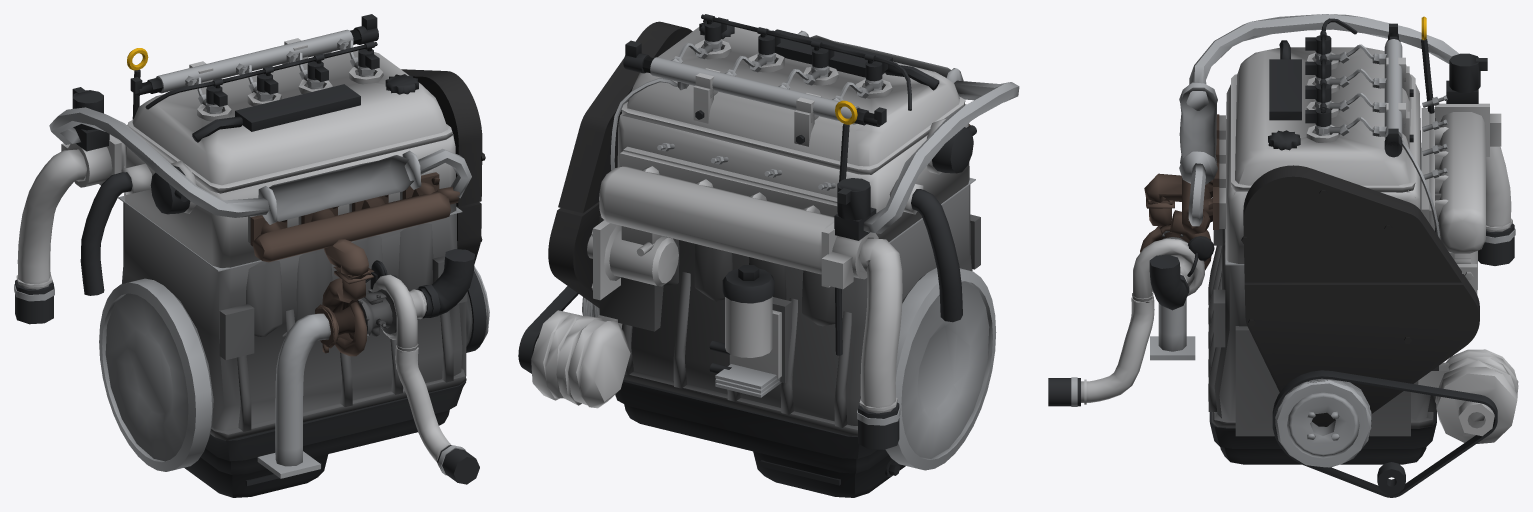
Rendered from engine_diesel-lo-v1.glb.
3 views of the same model, side by side, from view 1: azimuth 30°, elevation 25°; view 2: azimuth 150°, elevation 25°; view 3: azimuth 270°, elevation 25° (orthographic). The views are drawn at different scales.
Parts seen in each view (by area): view 1: block_geo, valve_cover_geo, flywheel_geo, egr_cooler_geo, oil_pan_geo, exhaust_manifold_geo, head_geo, intercooler_pipe_in_geo, downpipe_geo, timing_cover_geo, common_rail_geo, intercooler_pipe_out_geo (+16 smaller); view 2: block_geo, valve_cover_geo, intake_manifold_geo, flywheel_geo, oil_pan_geo, head_geo, timing_cover_geo, intercooler_pipe_in_geo, alternator_geo, oil_filter_geo, common_rail_geo, egr_cooler_geo (+12 smaller); view 3: timing_cover_geo, valve_cover_geo, block_geo, egr_cooler_geo, intake_manifold_geo, crank_pulley_geo, alternator_geo, accessory_belt_geo, head_geo, oil_pan_geo, intercooler_pipe_out_geo, common_rail_geo (+15 smaller).
Boxes of the visible parts, left/top/right/bottom form: block_geo: left=122, top=202, right=467, bottom=440; valve_cover_geo: left=127, top=50, right=452, bottom=193; flywheel_geo: left=99, top=278, right=213, bottom=471; egr_cooler_geo: left=49, top=107, right=471, bottom=224; oil_pan_geo: left=184, top=381, right=465, bottom=497; exhaust_manifold_geo: left=250, top=172, right=459, bottom=279; head_geo: left=121, top=133, right=456, bottom=267; intercooler_pipe_in_geo: left=14, top=149, right=86, bottom=324; downpipe_geo: left=257, top=313, right=330, bottom=478; timing_cover_geo: left=401, top=69, right=485, bottom=263; common_rail_geo: left=130, top=14, right=378, bottom=95; intercooler_pipe_out_geo: left=395, top=345, right=479, bottom=484; block_geo: left=599, top=184, right=980, bottom=436; valve_cover_geo: left=621, top=19, right=965, bottom=174; intake_manifold_geo: left=599, top=151, right=878, bottom=289; flywheel_geo: left=885, top=267, right=996, bottom=470; oil_pan_geo: left=615, top=379, right=905, bottom=497; head_geo: left=617, top=104, right=969, bottom=241; timing_cover_geo: left=548, top=21, right=692, bottom=308; intercooler_pipe_in_geo: left=857, top=238, right=902, bottom=449; alternator_geo: left=531, top=310, right=630, bottom=408; oil_filter_geo: left=709, top=265, right=781, bottom=397; common_rail_geo: left=623, top=40, right=886, bottom=146; egr_cooler_geo: left=766, top=28, right=1019, bottom=233; timing_cover_geo: left=1241, top=165, right=1479, bottom=426; valve_cover_geo: left=1231, top=40, right=1415, bottom=192; block_geo: left=1208, top=229, right=1438, bottom=436; egr_cooler_geo: left=1179, top=14, right=1459, bottom=226; intake_manifold_geo: left=1429, top=103, right=1501, bottom=253; crank_pulley_geo: left=1275, top=378, right=1371, bottom=467; alternator_geo: left=1418, top=349, right=1518, bottom=443; accessory_belt_geo: left=1272, top=370, right=1497, bottom=497; head_geo: left=1219, top=84, right=1429, bottom=263; oil_pan_geo: left=1209, top=412, right=1436, bottom=464; intercooler_pipe_out_geo: left=1048, top=296, right=1154, bottom=406; common_rail_geo: left=1379, top=23, right=1413, bottom=157.
Bounding box in the file's own units: 0.6355 × 0.6425 × 0.7233.
